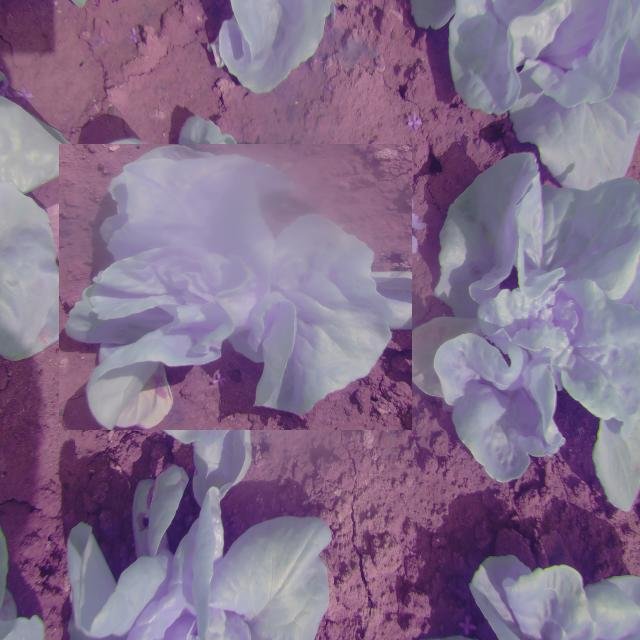vege: (76, 127, 396, 446)
